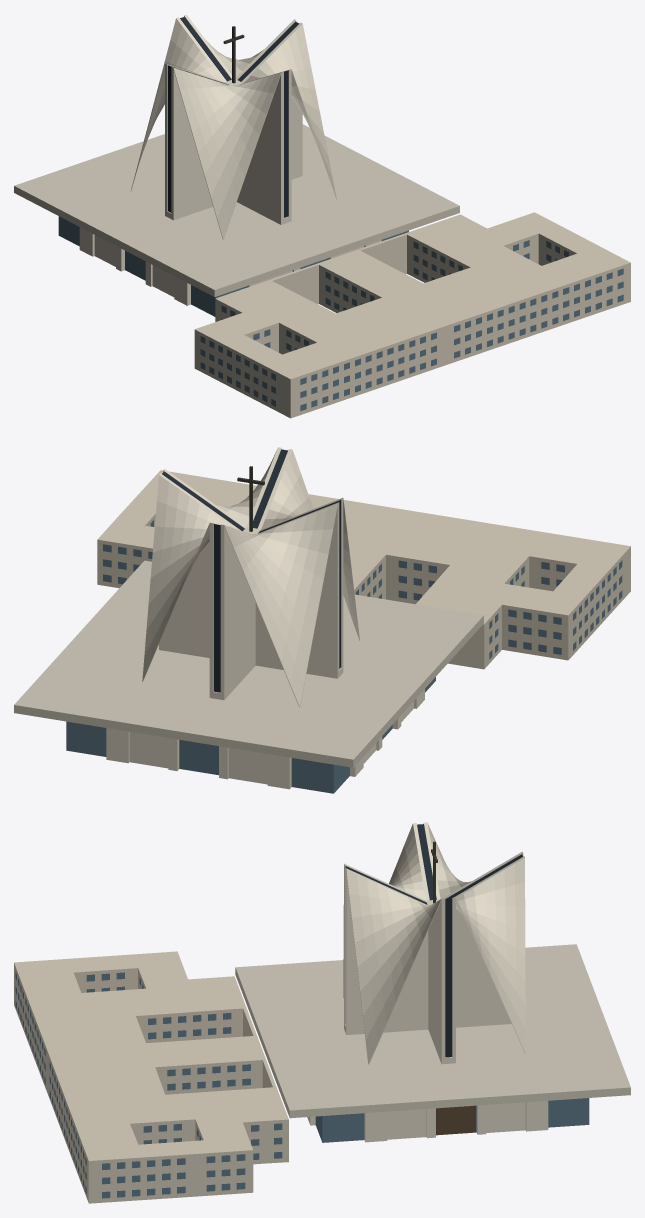
File: cathedral-of-saint-mary-far.glb
3 renders of one model, top to bottom at view 1: azimuth 30°, elevation 25°; view 2: azimuth 150°, elevation 25°; view 3: azimuth 270°, elevation 25°, orthographic. The views are drawn at different scales.
Visible parts, largest first — view 1: cathedral-of-saint-mary-0-annex, cathedral-of-saint-mary-0-slab, cathedral-of-saint-mary-0-stone, cathedral-of-saint-mary-0-glass, cathedral-of-saint-mary-0-glow; view 2: cathedral-of-saint-mary-0-slab, cathedral-of-saint-mary-0-stone, cathedral-of-saint-mary-0-annex, cathedral-of-saint-mary-0-glass, cathedral-of-saint-mary-0-glow; view 3: cathedral-of-saint-mary-0-annex, cathedral-of-saint-mary-0-slab, cathedral-of-saint-mary-0-stone, cathedral-of-saint-mary-0-glass, cathedral-of-saint-mary-0-glow, cathedral-of-saint-mary-0-bronze.
Boxes of the visible parts, bbox=[...] form: cathedral-of-saint-mary-0-annex: bbox=[194, 212, 630, 418]; cathedral-of-saint-mary-0-slab: bbox=[14, 124, 459, 296]; cathedral-of-saint-mary-0-stone: bbox=[79, 14, 381, 305]; cathedral-of-saint-mary-0-glass: bbox=[58, 216, 623, 411]; cathedral-of-saint-mary-0-glow: bbox=[168, 17, 299, 217]; cathedral-of-saint-mary-0-slab: bbox=[14, 560, 483, 767]; cathedral-of-saint-mary-0-stone: bbox=[106, 447, 424, 789]; cathedral-of-saint-mary-0-annex: bbox=[97, 470, 630, 669]; cathedral-of-saint-mary-0-glass: bbox=[66, 520, 622, 793]; cathedral-of-saint-mary-0-glow: bbox=[162, 449, 340, 692]; cathedral-of-saint-mary-0-annex: bbox=[14, 951, 288, 1203]; cathedral-of-saint-mary-0-slab: bbox=[235, 944, 630, 1118]; cathedral-of-saint-mary-0-stone: bbox=[307, 822, 548, 1142]; cathedral-of-saint-mary-0-glass: bbox=[15, 972, 589, 1198]; cathedral-of-saint-mary-0-glow: bbox=[345, 824, 522, 1057]; cathedral-of-saint-mary-0-bronze: bbox=[436, 1105, 475, 1135].
Size of the model in its own units: 111 by 58 by 138.
